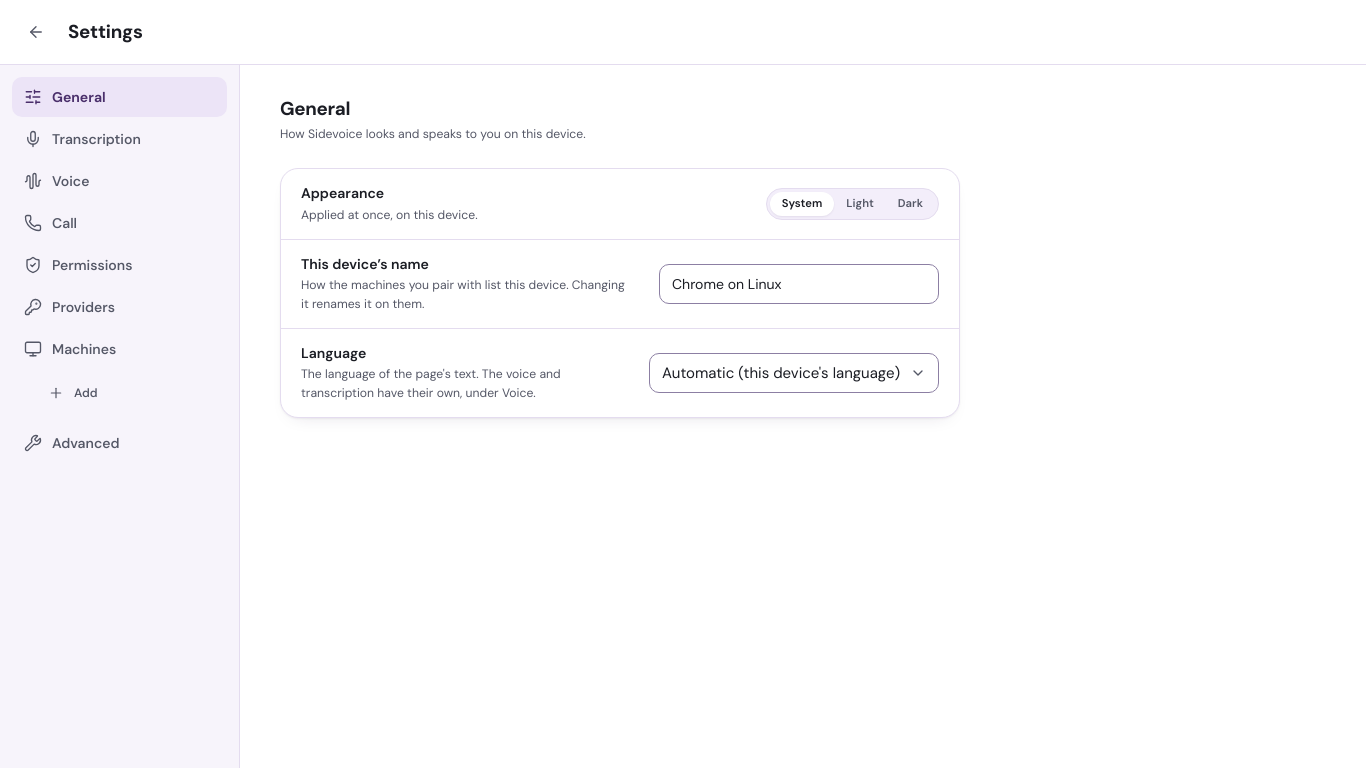
Test case: the voice detector comes first, is never deletable, and says why right by its name; a row's tags are its purpose then In use
What coordinates should you click on to do the following:
click the button with id "settings-advanced"
I would click on:
 (120, 443)
Its box is [12, 423, 227, 463].
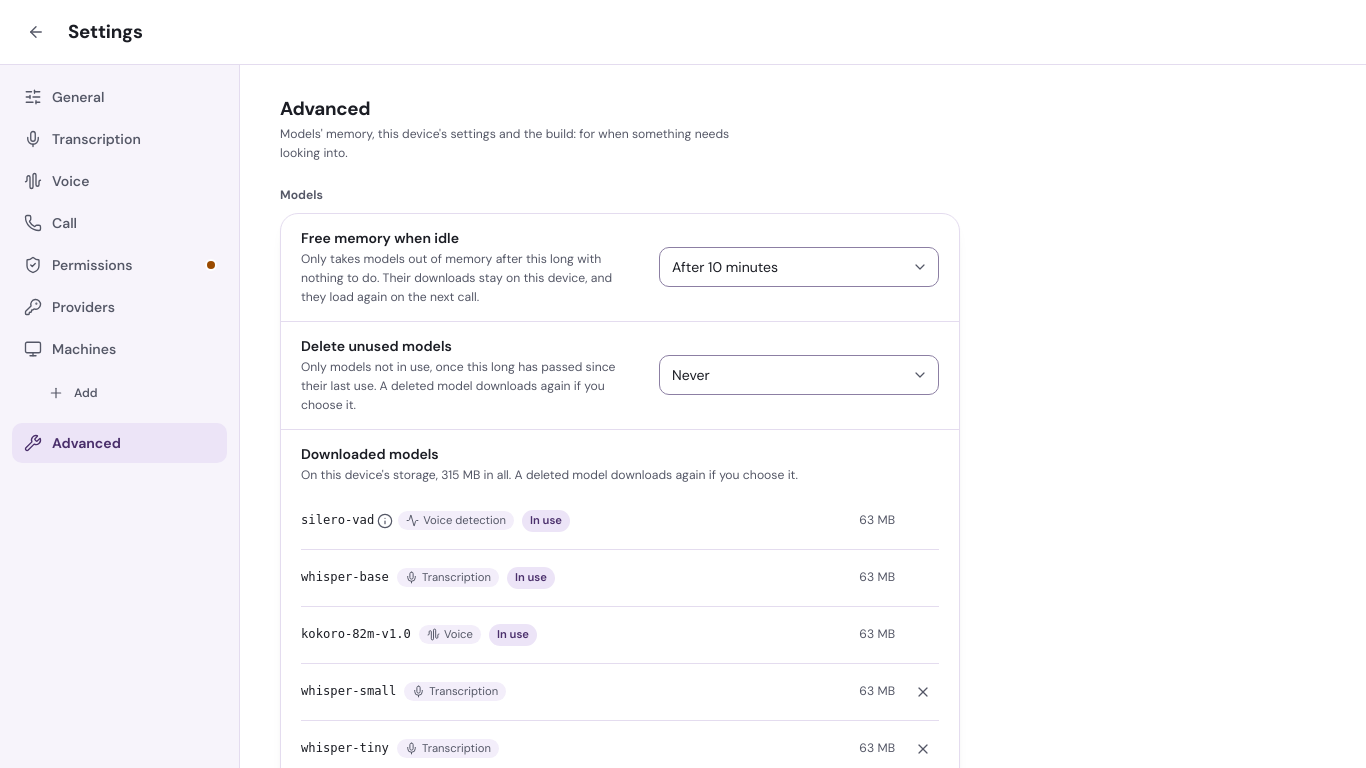
expect the button with class "ui-infotip" is shown: met, box [376, 509, 394, 533]
